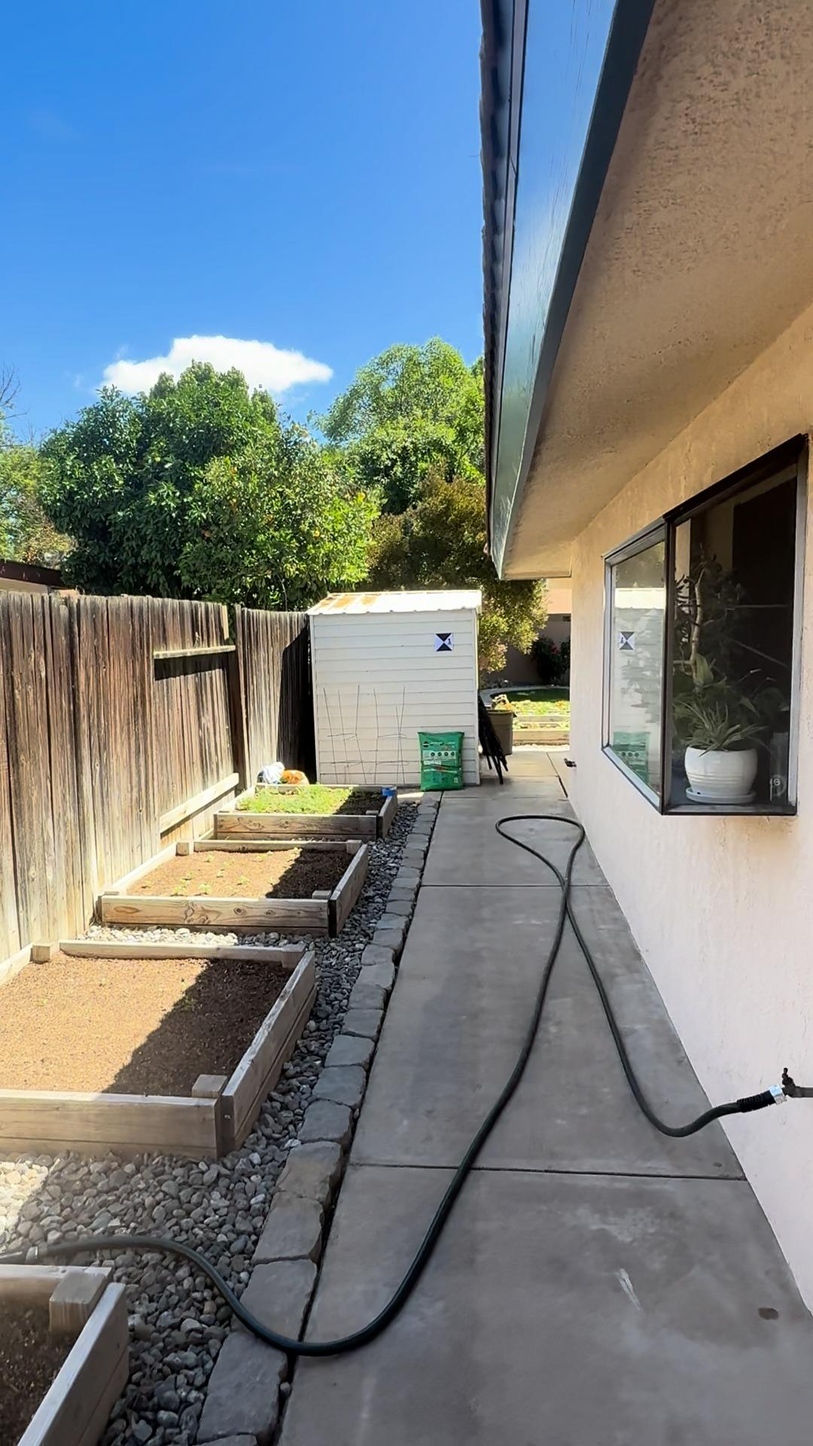target1: (434, 631, 456, 653)
